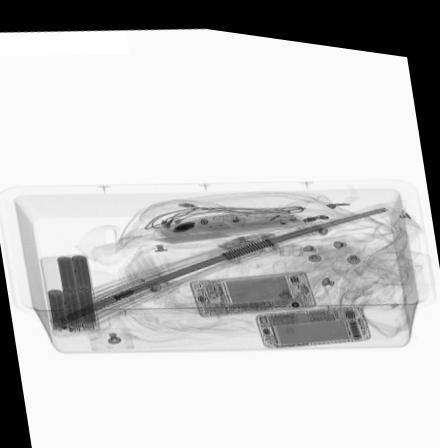Powerbank: (36, 249, 100, 330)
